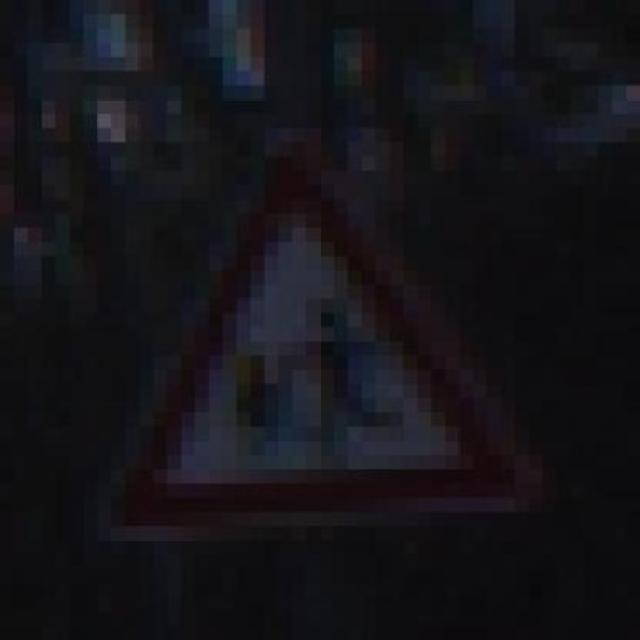Beware of children: (97, 134, 529, 532)
